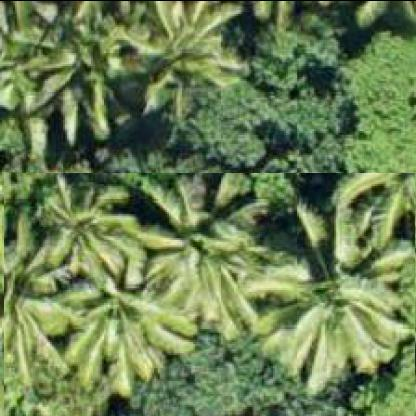coconut tree: (3, 172, 416, 415), (1, 1, 299, 164)
